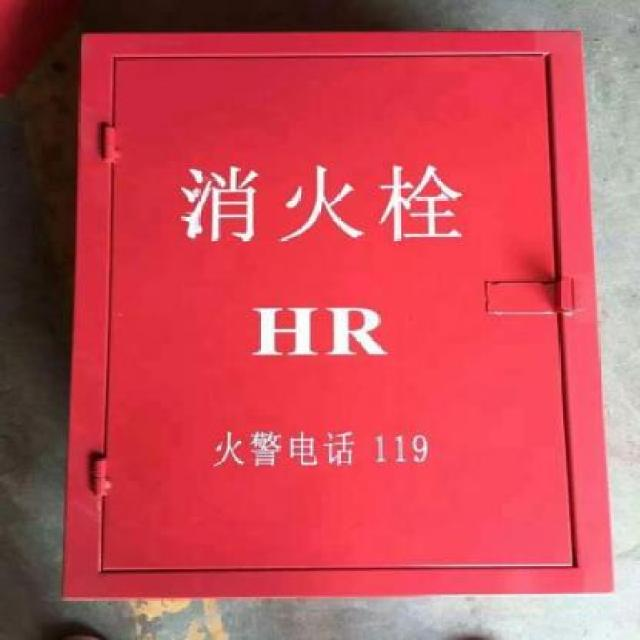firehydrant: (54, 24, 618, 600)
